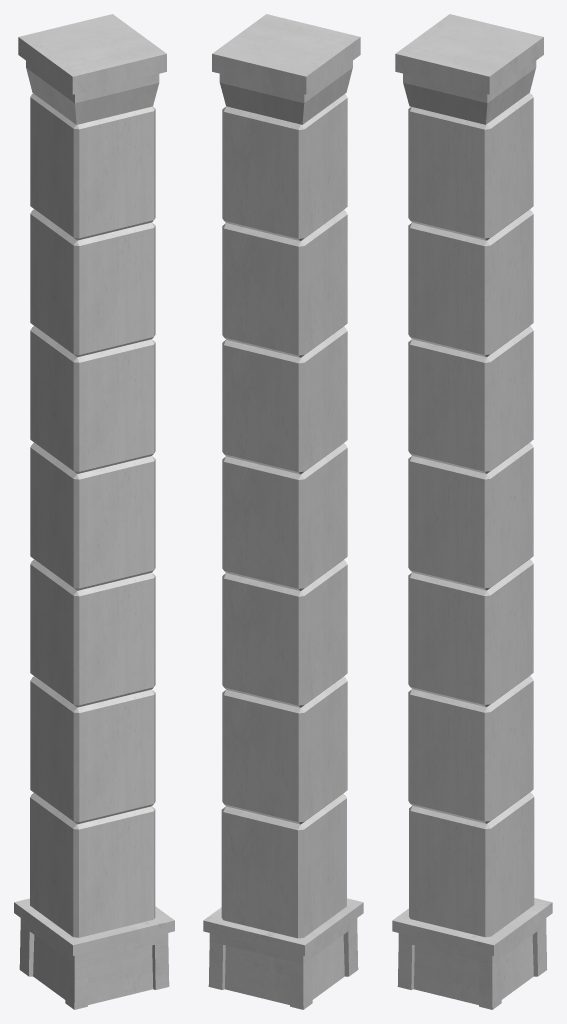
File: Pillar_F.fbx
3 renders of one model, left to right at view 1: azimuth 30°, elevation 25°; view 2: azimuth 150°, elevation 25°; view 3: azimuth 330°, elevation 25°, orthographic.
Parts seen in each view (by area): view 1: Pillar_F; view 2: Pillar_F; view 3: Pillar_F.
Boxes of the visible parts, left/top/right/bottom form: Pillar_F: left=14, top=14, right=174, bottom=1009; Pillar_F: left=203, top=14, right=363, bottom=1009; Pillar_F: left=392, top=14, right=552, bottom=1009.
Bounding box in the file's own units: 119 × 1043 × 119.
Materials: 1 (1 with a texture image).
